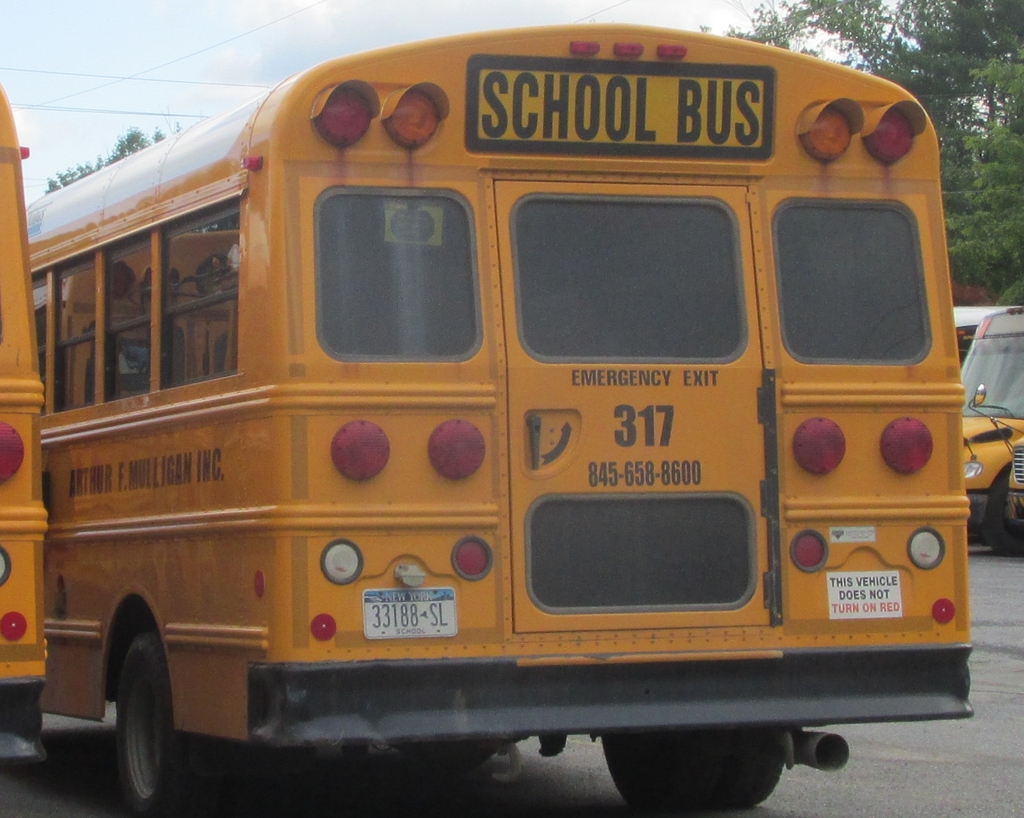Bus: (0, 21, 1023, 817)
